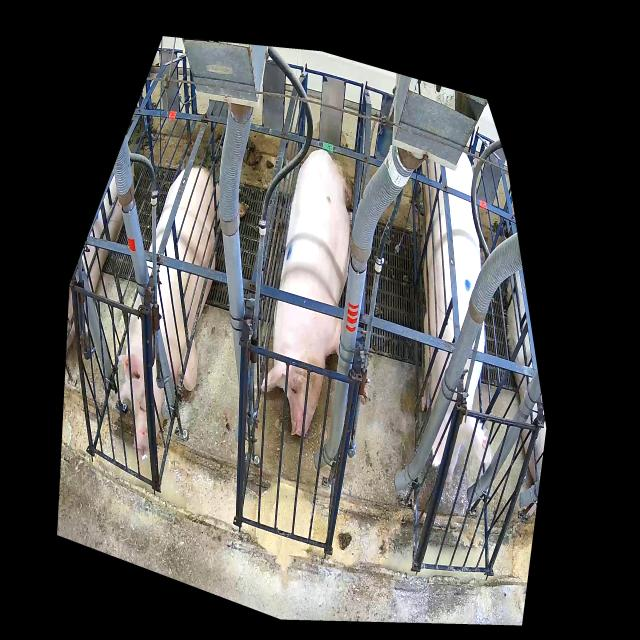pig: (116, 164, 248, 454), (261, 148, 367, 437), (417, 141, 491, 482)
